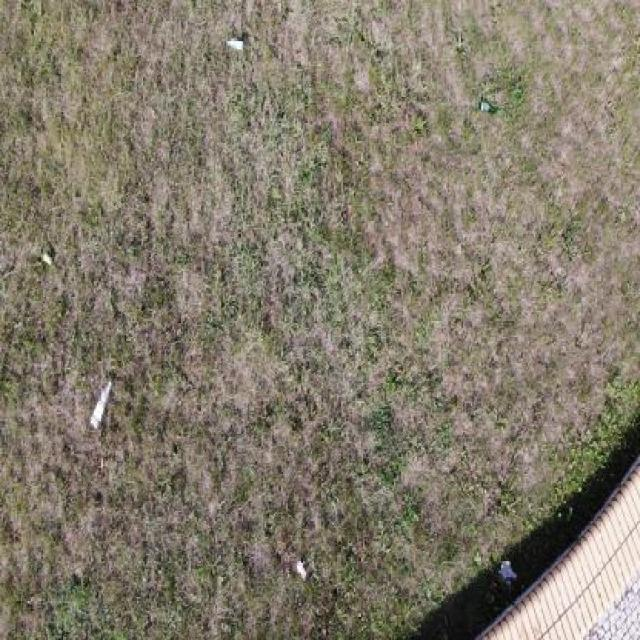Garbage: (90, 381, 112, 429), (498, 560, 518, 591), (296, 557, 307, 581), (478, 99, 498, 111), (226, 38, 244, 51), (43, 252, 53, 266)
